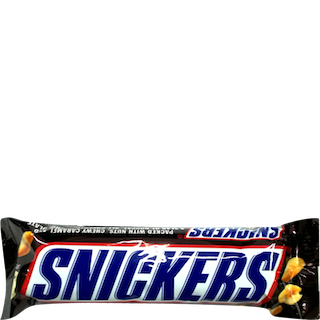snickers: (27, 249, 279, 299), (188, 224, 281, 237)
